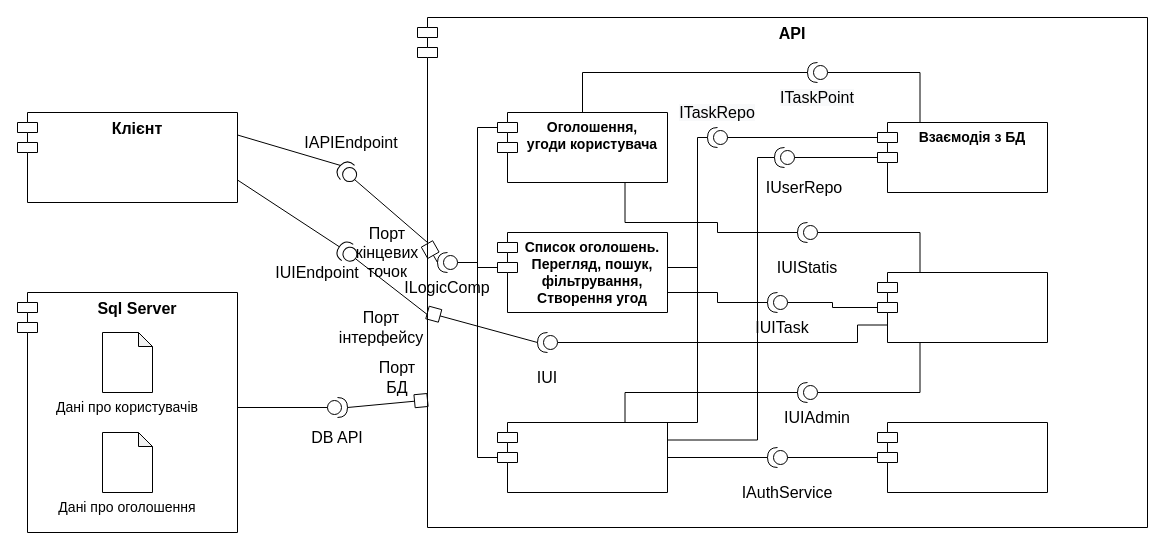
The diagram is 1165 pixels wide and 550 high, and some of its shapes have lost their labels. The centre of each missing label's shape, as x and y in pixels:
"Авторизація" goes at pixel 962 457.
"Адміністрування" goes at pixel 582 457.
"Загальний інтерфейс" goes at pixel 962 307.
